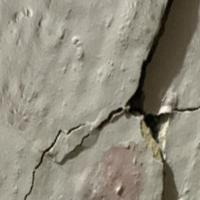crack: (18, 1, 196, 199)
